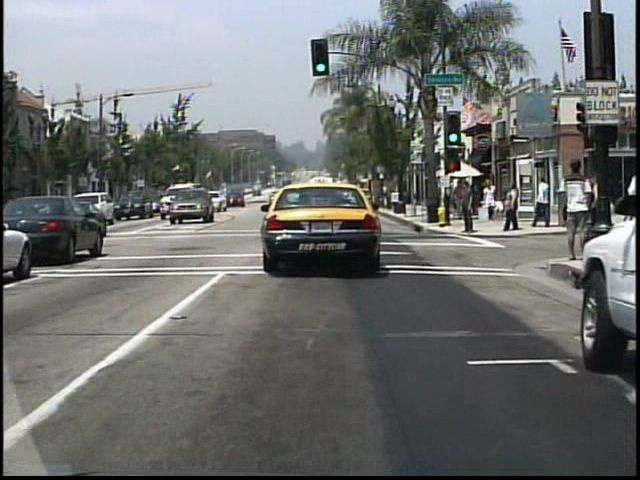person: (560, 156, 593, 253), (459, 182, 477, 237), (506, 182, 524, 232), (452, 180, 471, 226), (536, 175, 552, 229), (484, 179, 501, 224)
